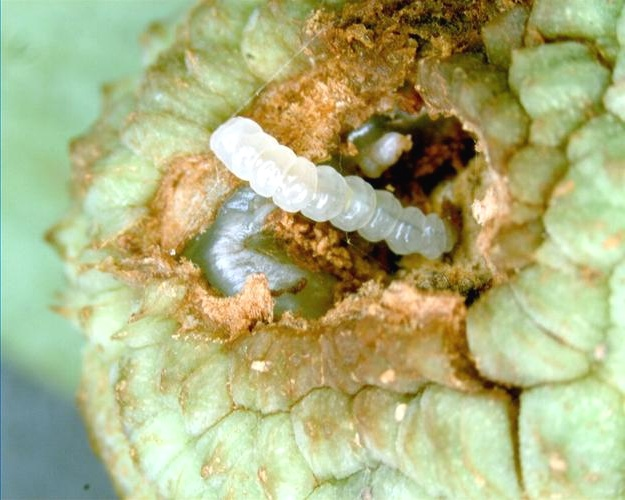Borer: (215, 126, 465, 246)
